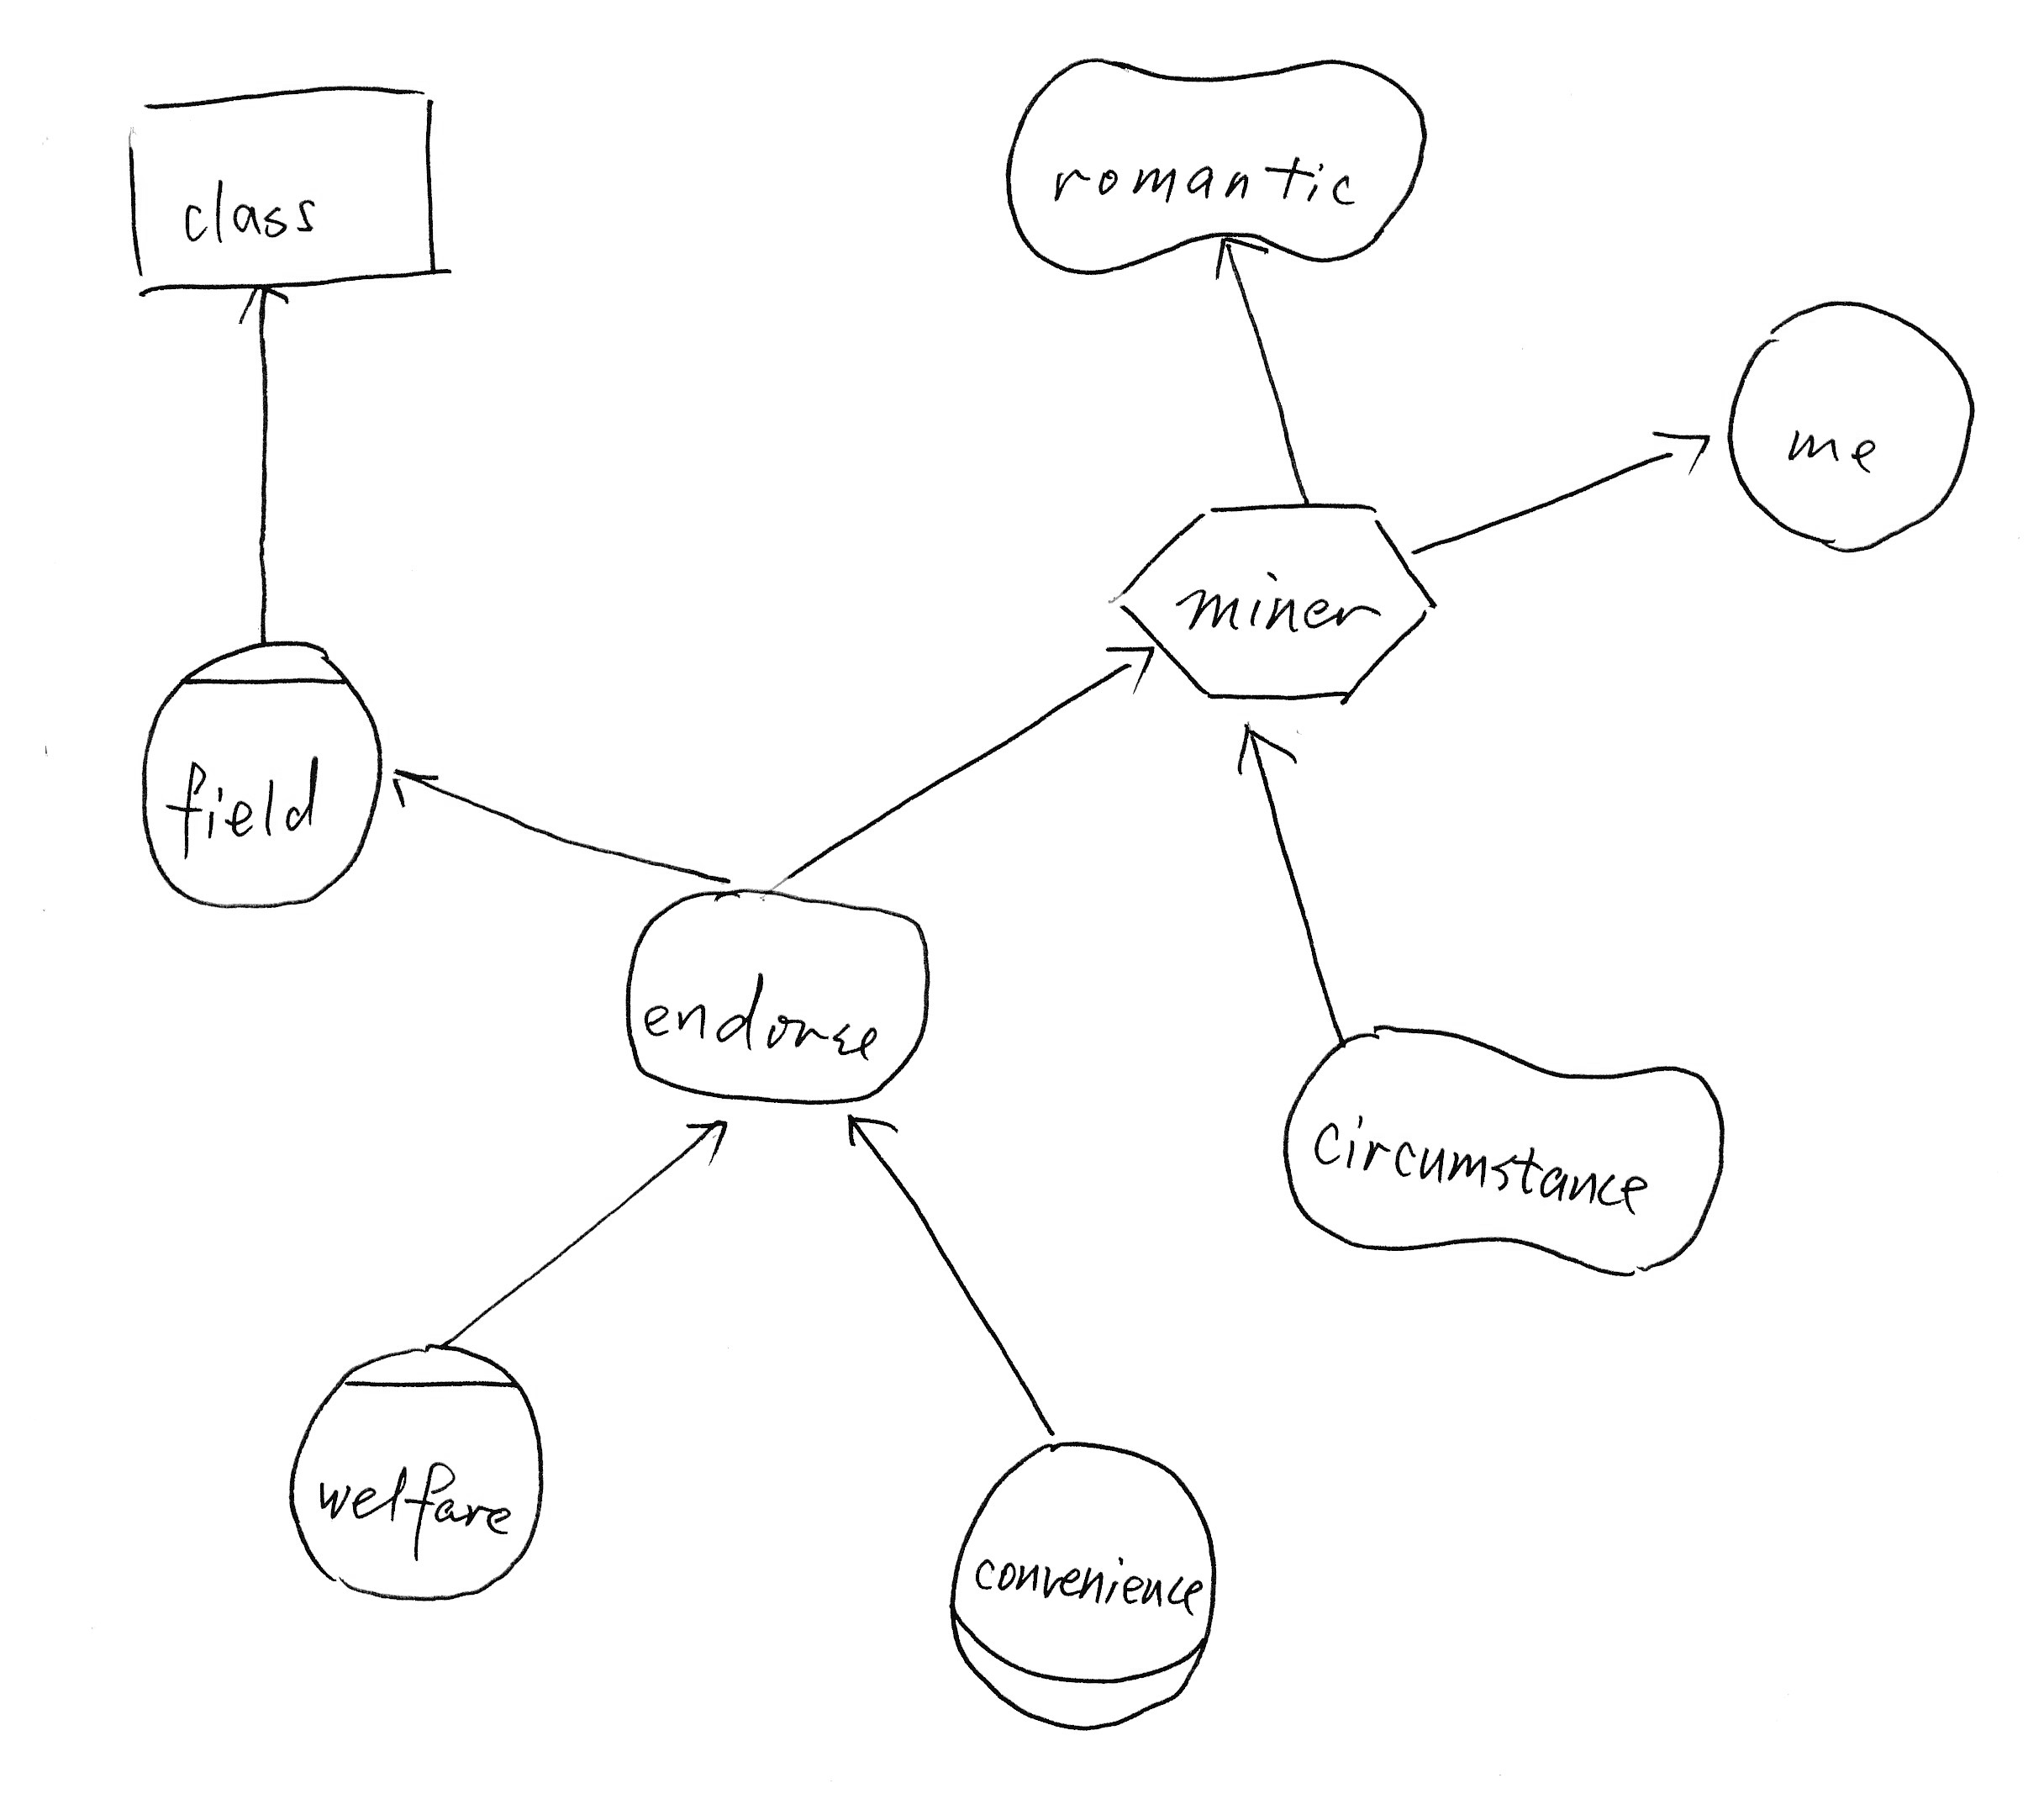actor: (1710, 283, 1994, 568)
agent: (273, 1321, 558, 1616), (123, 629, 403, 926)
arrow: (1222, 706, 1305, 791), (1646, 402, 1724, 490), (666, 1100, 744, 1187), (1093, 629, 1166, 706), (377, 742, 445, 822), (221, 280, 301, 335), (838, 1099, 911, 1156), (1208, 231, 1276, 276)
goal: (603, 867, 946, 1116)
quality: (1267, 1006, 1740, 1297), (984, 33, 1450, 295)
resource: (106, 57, 469, 316)
role: (937, 1422, 1225, 1742)
task: (1095, 485, 1455, 727)
